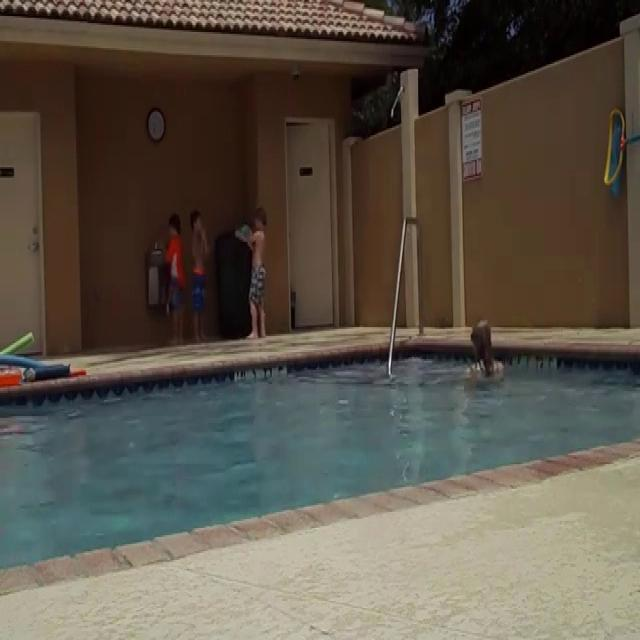child: (240, 207, 272, 345), (161, 210, 187, 348), (191, 207, 210, 345)
